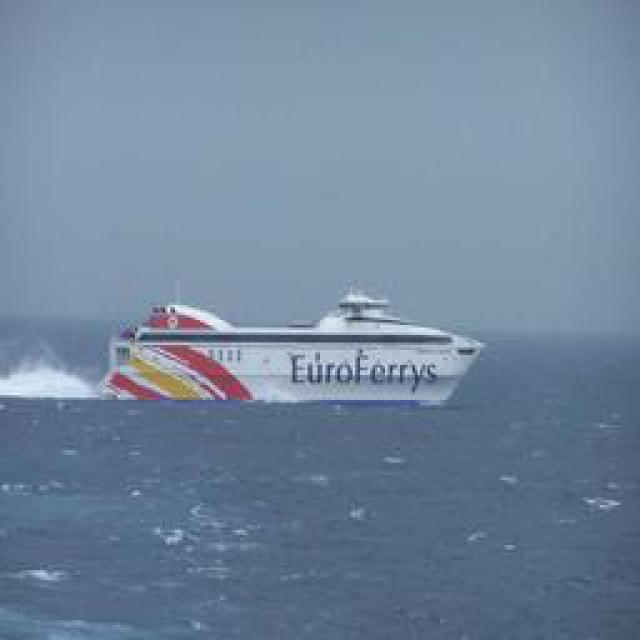Ship: (106, 286, 481, 406)
